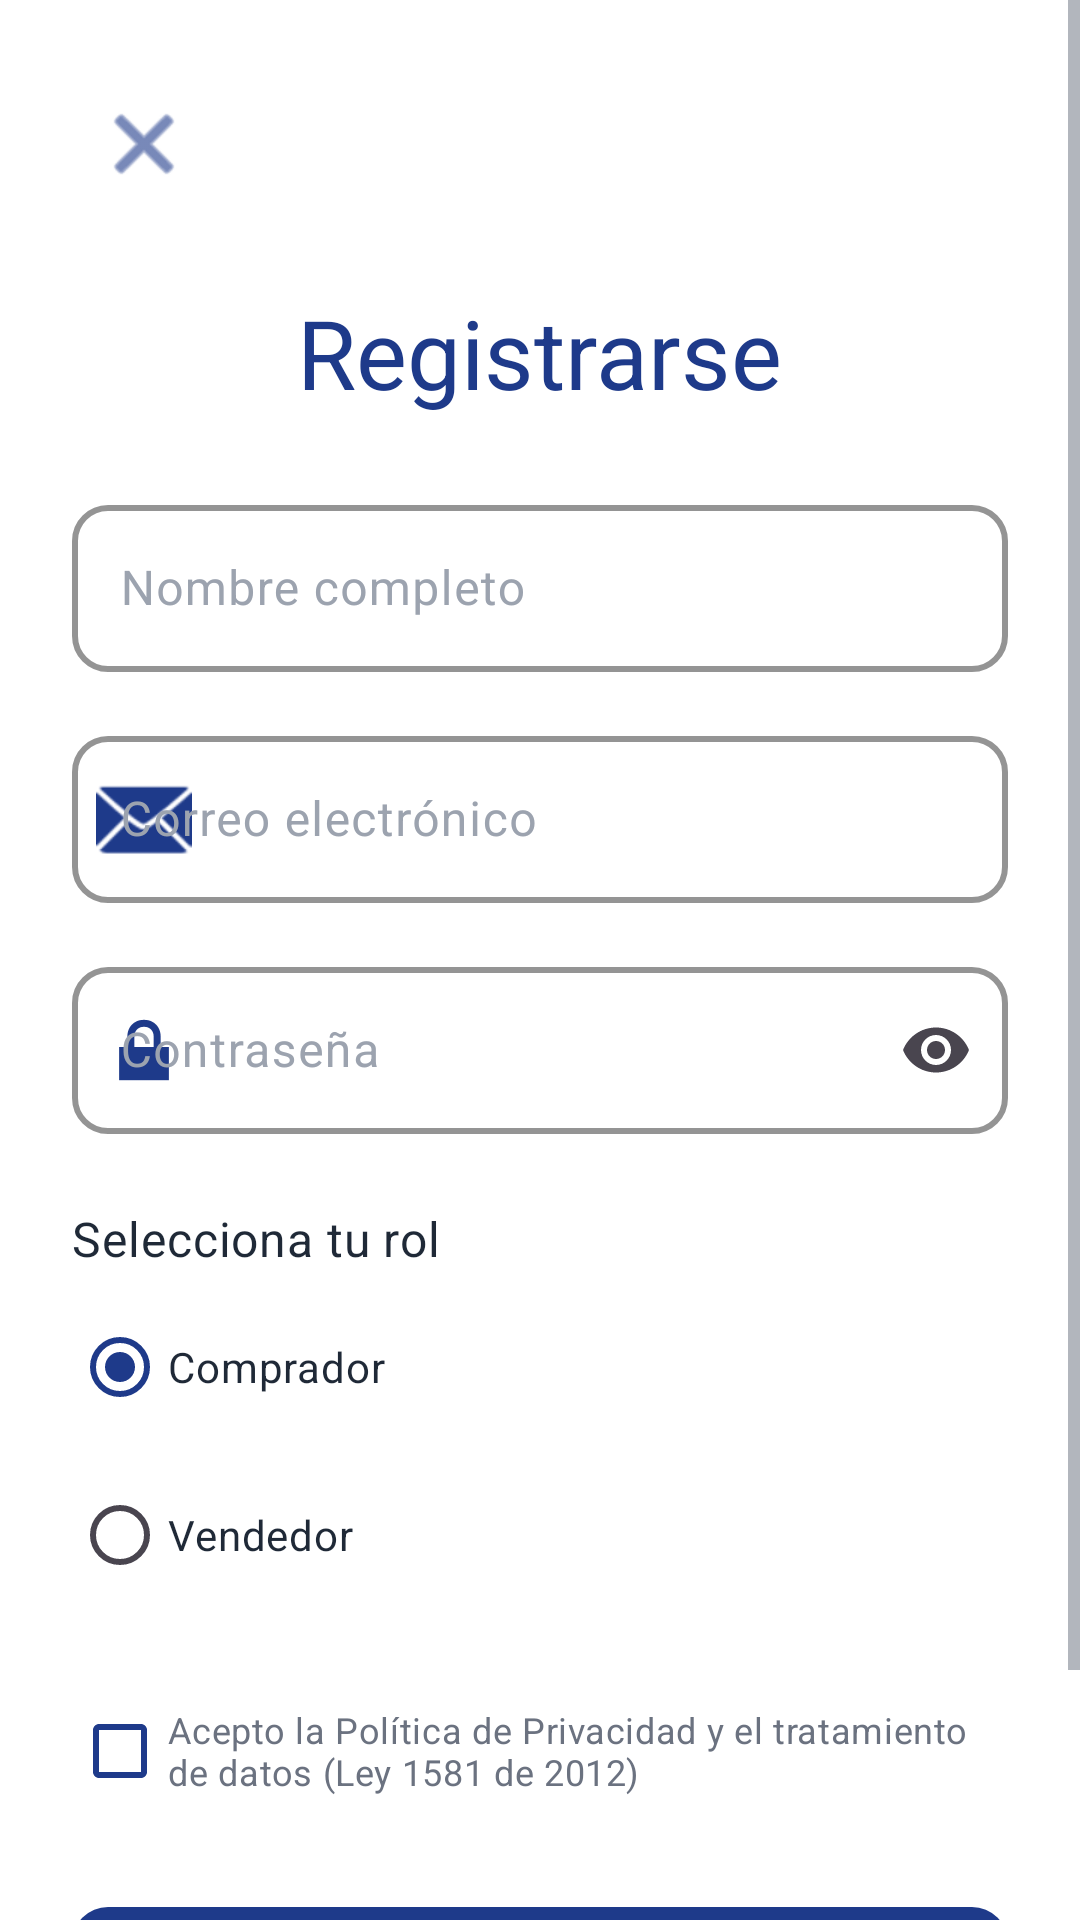

Locate icon controls on the screen. Image size 1080*1920, boxes as (x1,y1,x2,y2).
Cerrar: (114,114,174,174)
